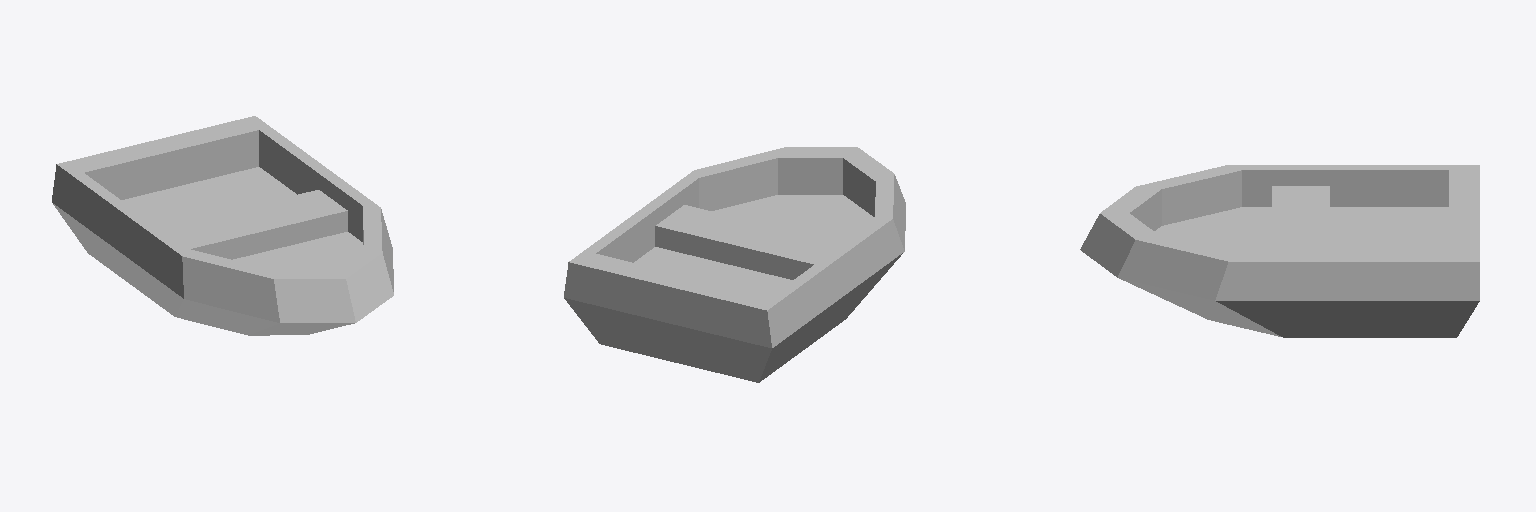
Rendered from watercraftPack_028.obj.
3 views of the same model, side by side, from view 1: azimuth 30°, elevation 25°; view 2: azimuth 150°, elevation 25°; view 3: azimuth 270°, elevation 25° (orthographic).
Visible parts, largest first — view 1: Mesh1 Group1 Model; view 2: Mesh1 Group1 Model; view 3: Mesh1 Group1 Model.
Boxes of the visible parts, box(x1,y1,x2,y2) form: Mesh1 Group1 Model: box(52, 116, 393, 335); Mesh1 Group1 Model: box(564, 147, 905, 382); Mesh1 Group1 Model: box(1080, 165, 1479, 337).
Size of the model in its own units: 1.78 by 0.7 by 2.97.